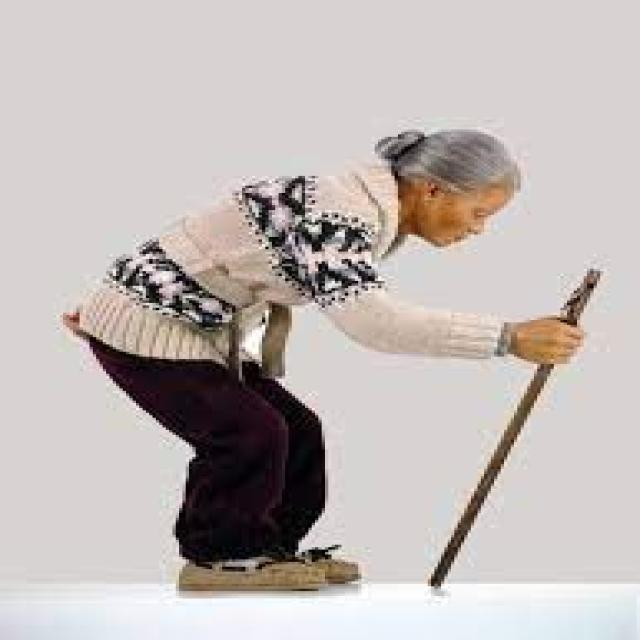idoso em pe: (74, 123, 573, 599)
